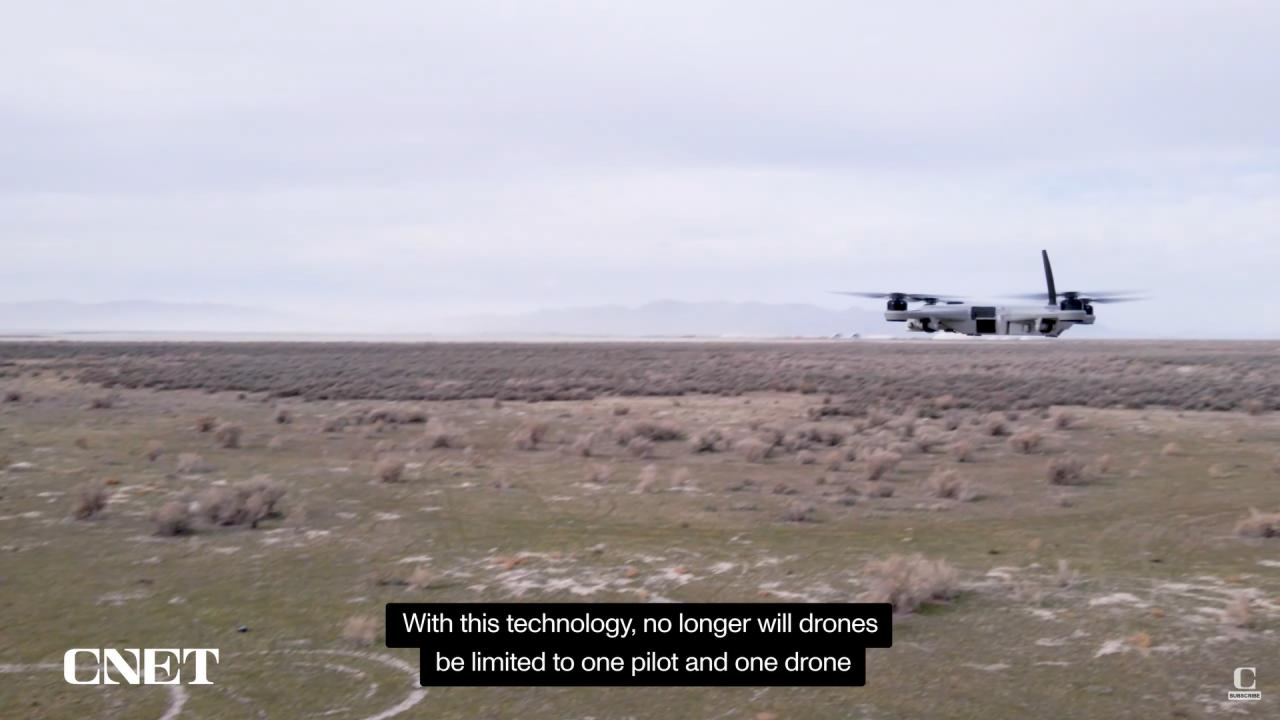Drone: (814, 232, 1172, 357)
